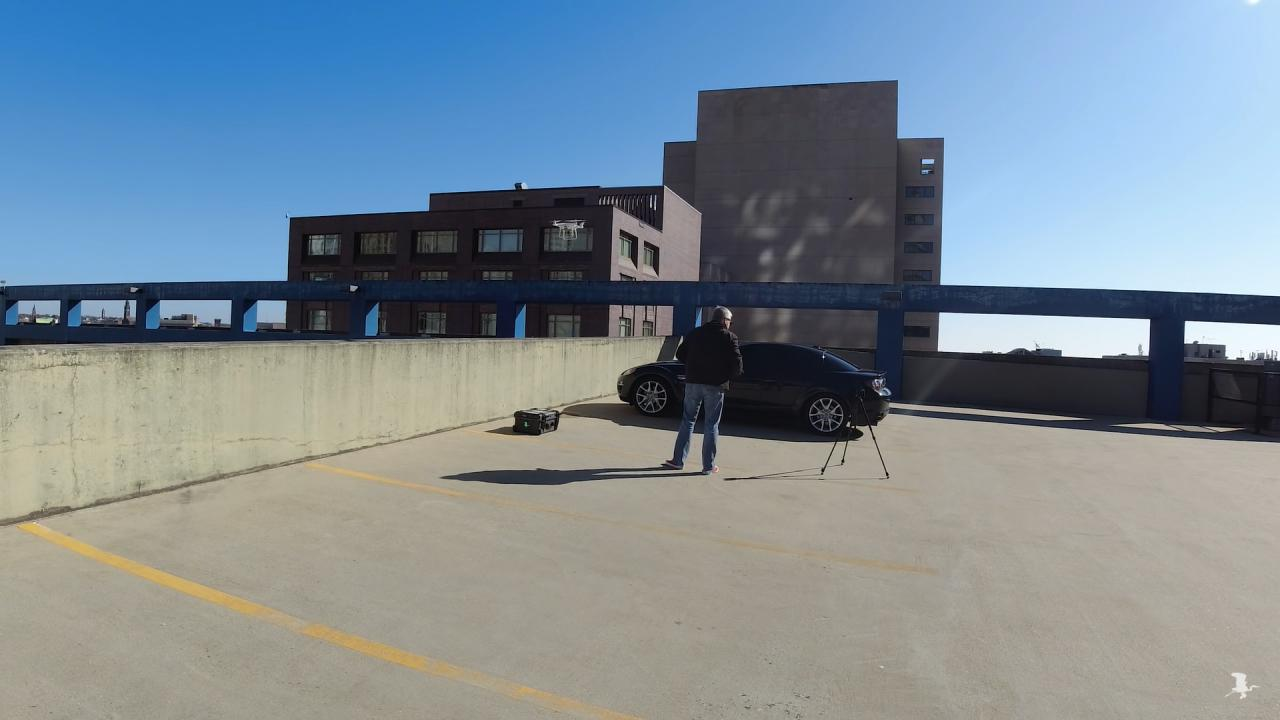Drone: (544, 210, 592, 246)
